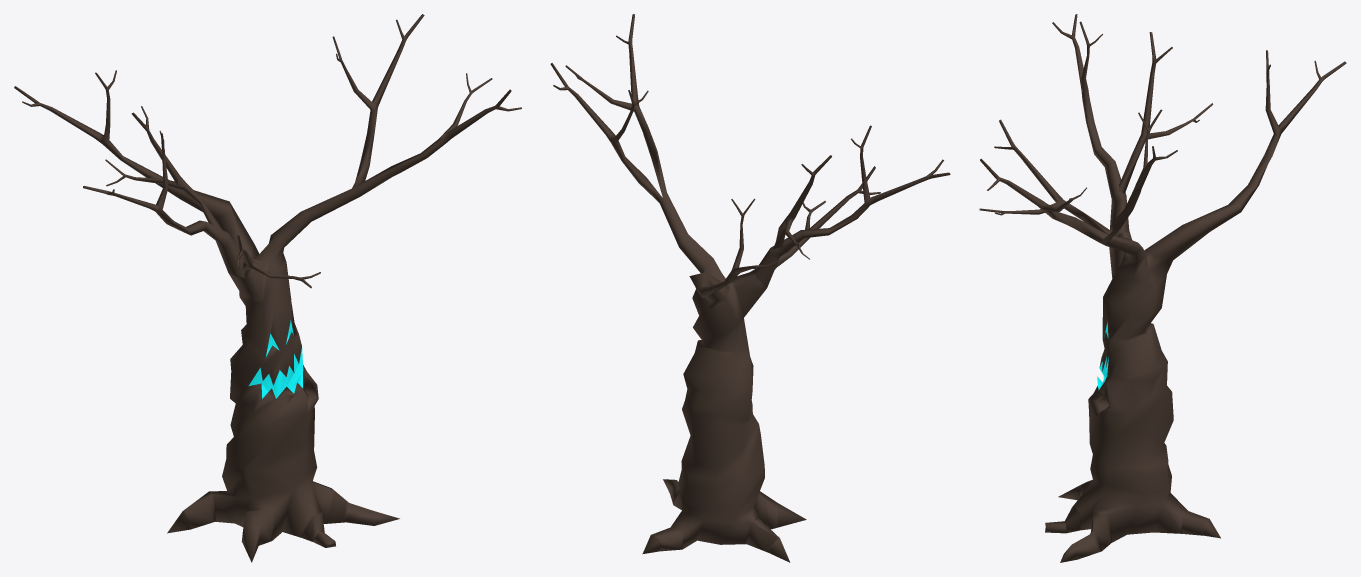
File: SpookyTree07.glb
3 views of the same model, side by side, from view 1: azimuth 30°, elevation 25°; view 2: azimuth 150°, elevation 25°; view 3: azimuth 270°, elevation 25° (orthographic). The views are drawn at different scales.
Visible parts, largest first — view 1: SpookyTree07; view 2: SpookyTree07; view 3: SpookyTree07.
Boxes of the visible parts, x1,y1,x2,y2 form: SpookyTree07: [14, 14, 521, 562]; SpookyTree07: [550, 14, 950, 562]; SpookyTree07: [979, 14, 1346, 562].
Size of what is drawn, in the model's own units: 6.06 by 6.56 by 4.77.
Materials: 2 (2 with a texture image).
